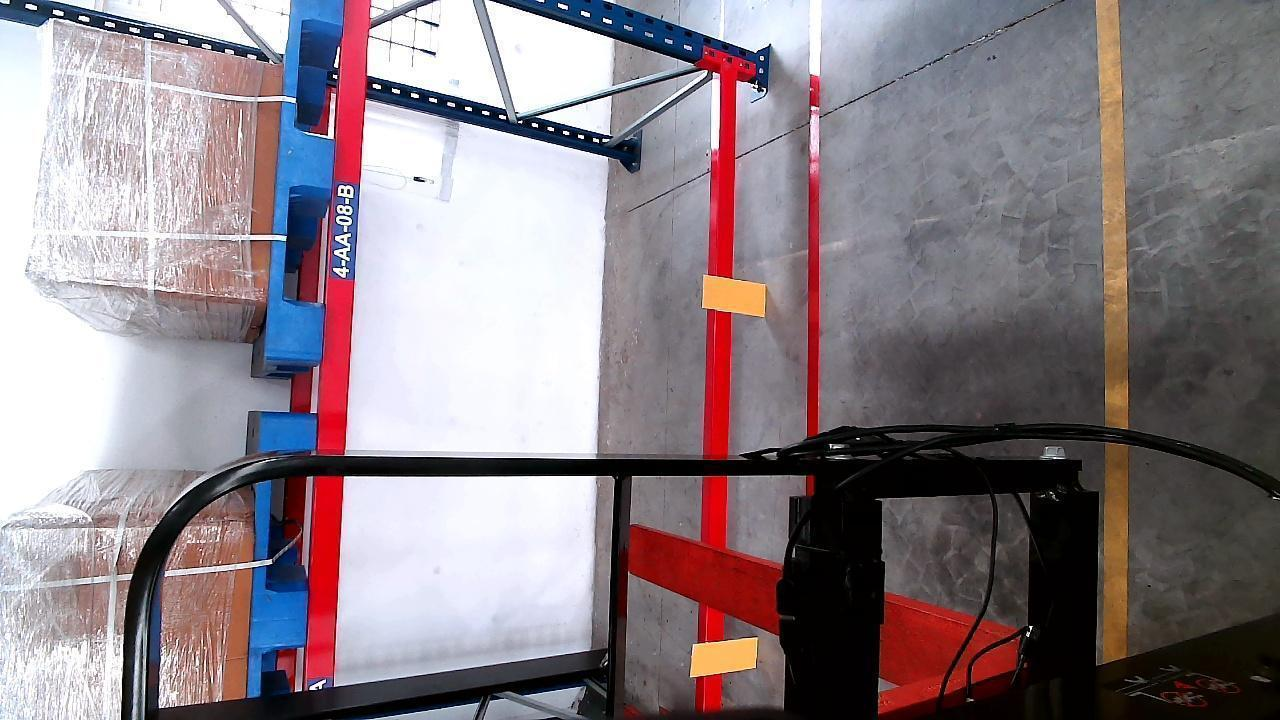red_line: (801, 15, 827, 431)
yellow_line: (1096, 0, 1132, 663)
